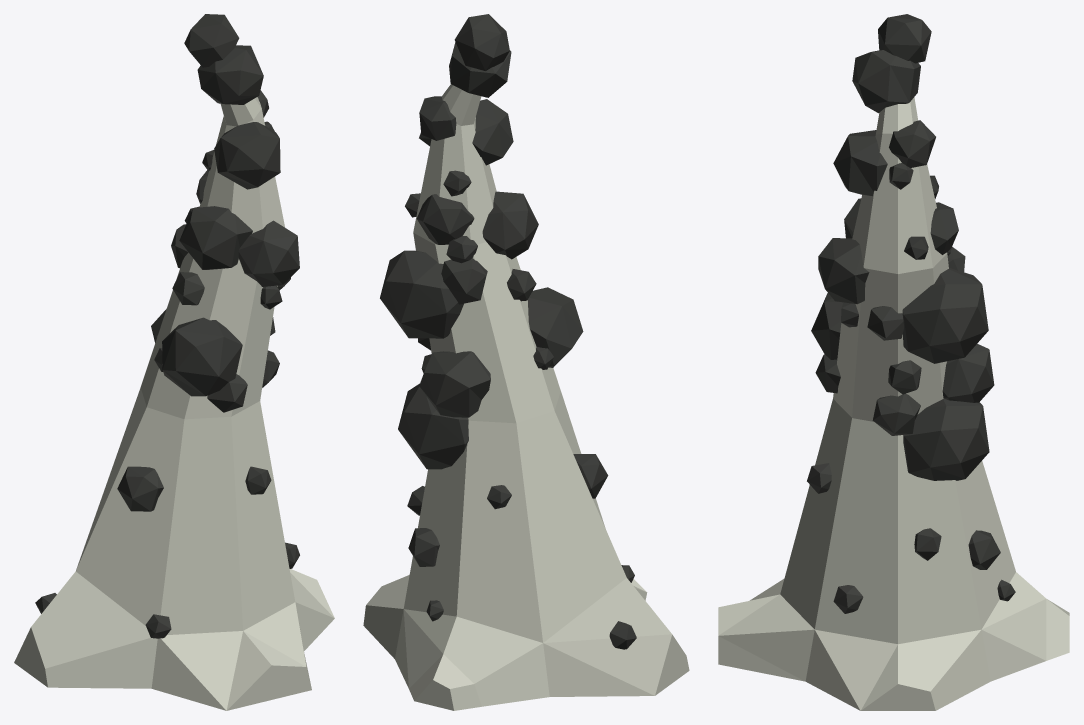
The model's file is DD_Plant03.fbx.
3 views of the same model, side by side, from view 1: azimuth 30°, elevation 25°; view 2: azimuth 150°, elevation 25°; view 3: azimuth 270°, elevation 25° (orthographic). The views are drawn at different scales.
Visible parts, largest first — view 1: DD_Plant03; view 2: DD_Plant03; view 3: DD_Plant03.
Boxes of the visible parts, x1,y1,x2,y2 form: DD_Plant03: [14, 14, 334, 710]; DD_Plant03: [363, 14, 689, 710]; DD_Plant03: [718, 14, 1069, 710].
Size of the model in its own units: 87.3 by 178 by 88.26.
1 material, 1 textured.
